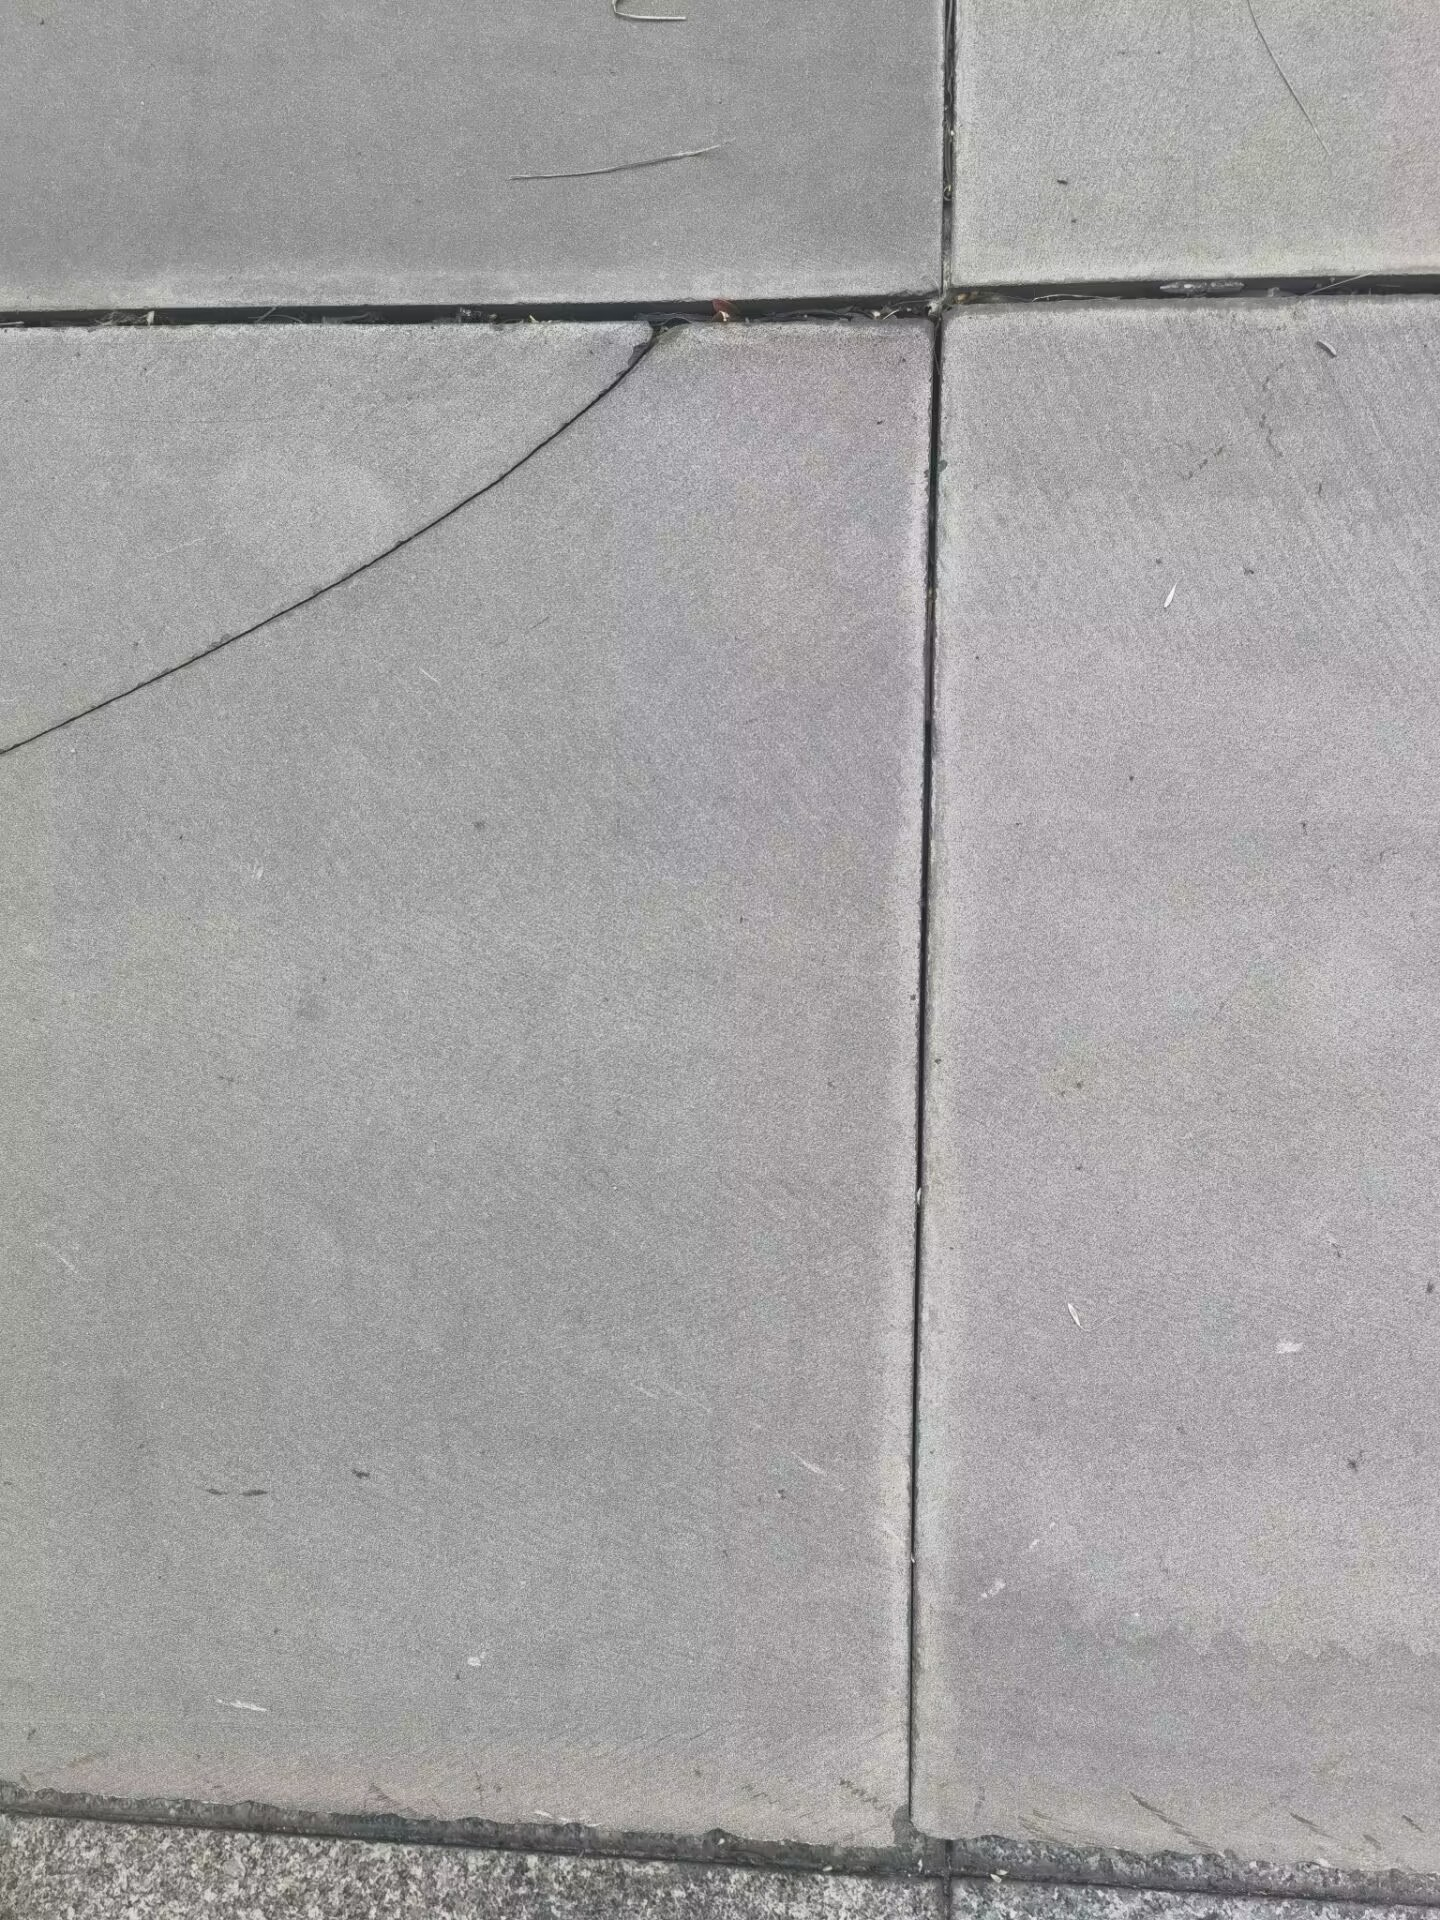TILE: (0, 325, 690, 756)
